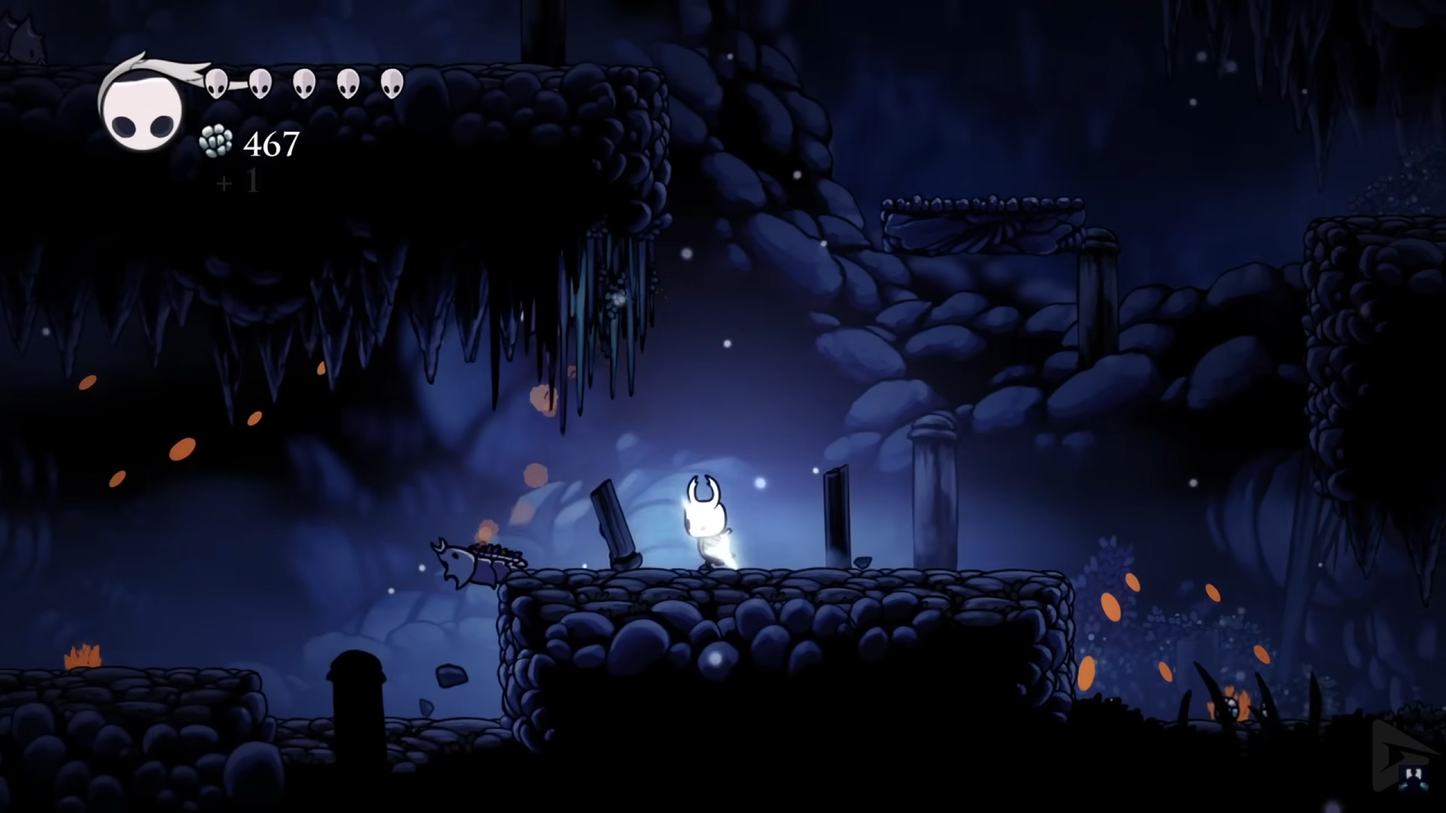HK: (678, 470, 737, 569)
